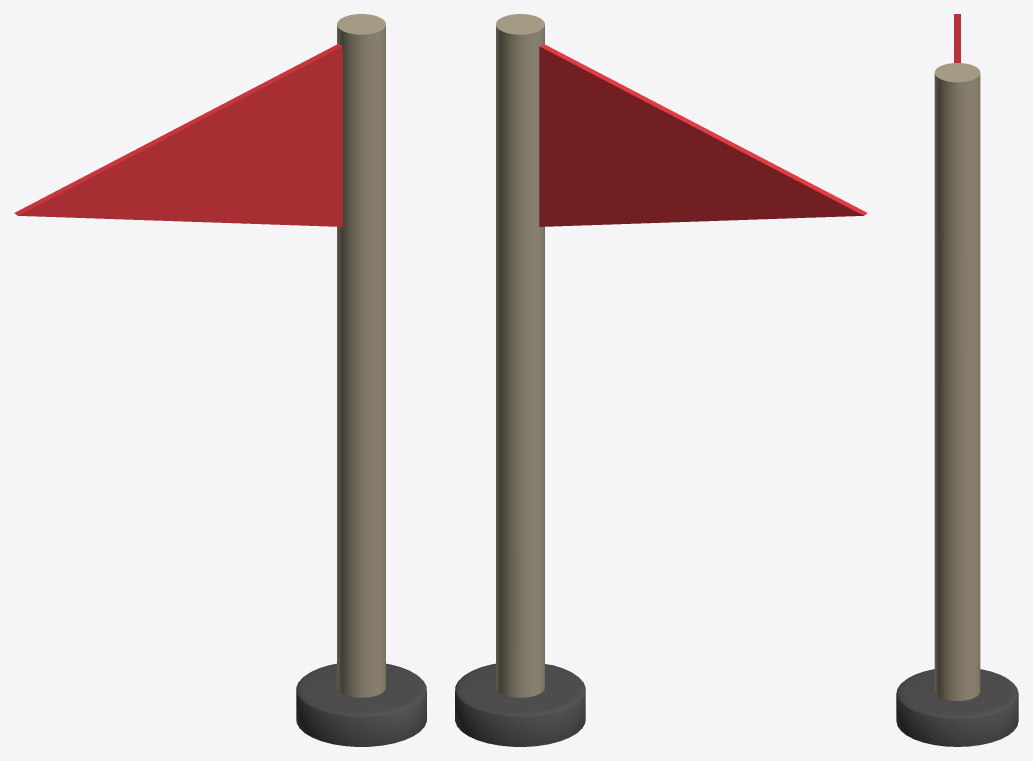
The model's file is CheckPoint.fbx.
3 views of the same model, side by side, from view 1: azimuth 30°, elevation 25°; view 2: azimuth 150°, elevation 25°; view 3: azimuth 270°, elevation 25° (orthographic). The views are drawn at different scales.
Visible parts, largest first — view 1: Palo, Bandera, Base; view 2: Palo, Bandera, Base; view 3: Palo, Base, Bandera.
Part boxes in pixels (bbox=[...]): Palo: bbox=[337, 14, 385, 697]; Bandera: bbox=[14, 43, 342, 226]; Base: bbox=[296, 663, 426, 746]; Palo: bbox=[496, 14, 544, 697]; Bandera: bbox=[539, 43, 867, 226]; Base: bbox=[455, 663, 585, 746]; Palo: bbox=[934, 63, 980, 700]; Base: bbox=[896, 669, 1018, 746]; Bandera: bbox=[954, 14, 960, 62].
Size of the model in its own units: 1844 by 3045 by 520.
